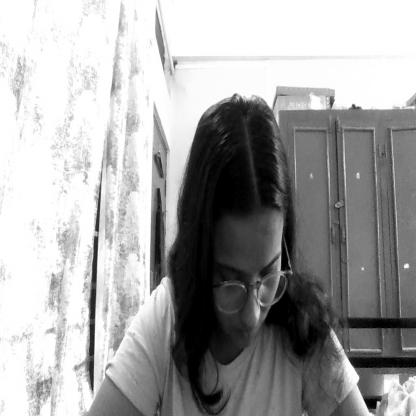Normal: (206, 154, 288, 376)
